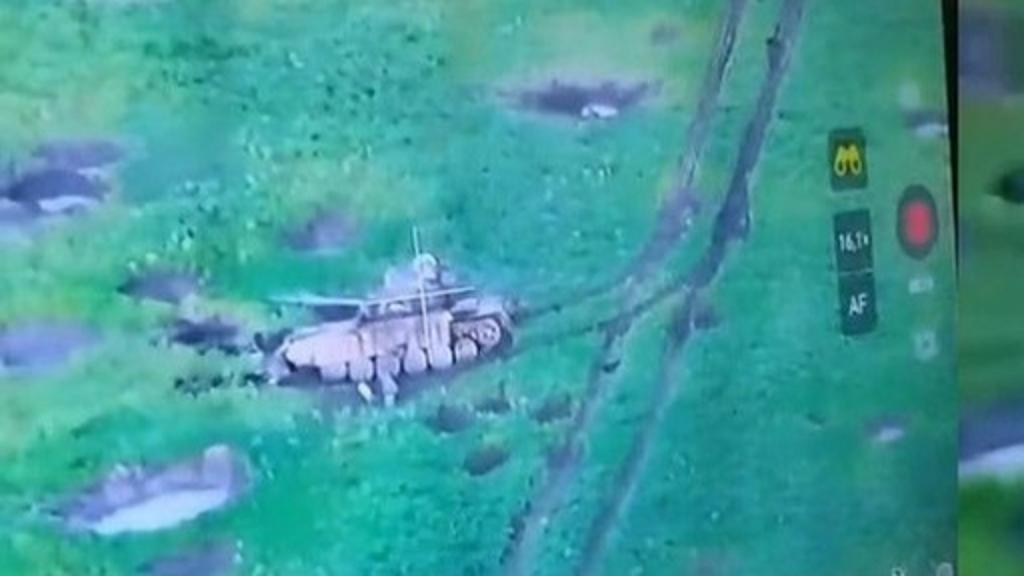TANK: (256, 246, 506, 394)
